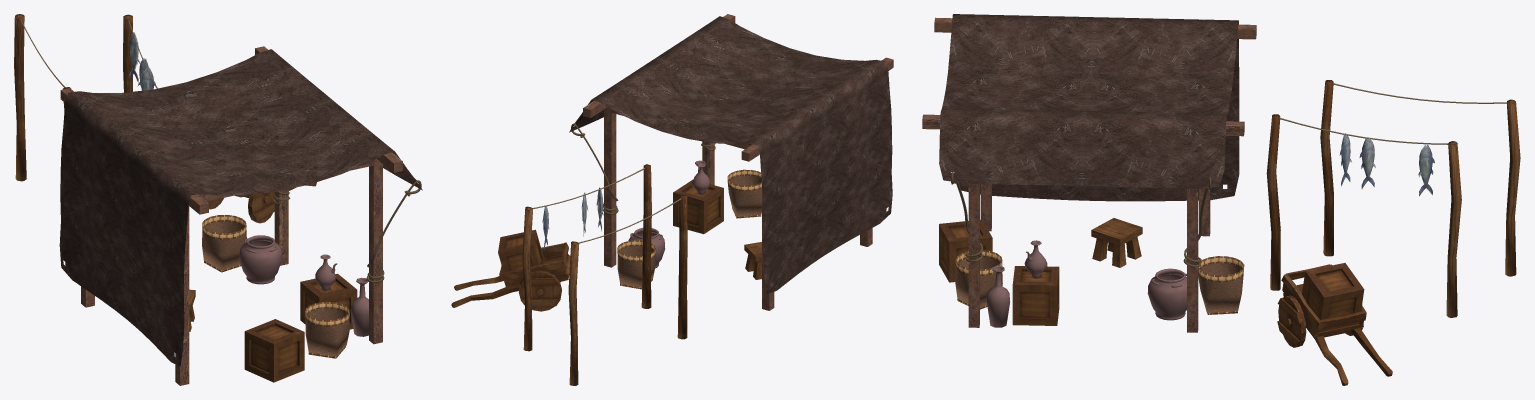
The picture shows the model from 3 angles, left to right: view 1: azimuth 30°, elevation 25°; view 2: azimuth 150°, elevation 25°; view 3: azimuth 270°, elevation 25°; orthographic projection. The views are drawn at different scales.
Parts seen in each view (by area): view 1: tenda.012, Crate_low.156, Cylinder.114, Cylinder.133, Jemuran_low.001, Cylinder.141, Crate_low.153, gerobag-base_low.001, Cylinder.110, Jemuran_low.003, Cylinder.111, Fish_low.002; view 2: tenda.012, gerobag-base_low.001, Jemuran_low.001, Jemuran_low.003, Crate_low.153, Cylinder.114, Cylinder.133, Crate_low.051, Kursi_low.014, Cylinder.141; view 3: tenda.012, Jemuran_low.003, Jemuran_low.001, gerobag-base_low.001, Crate_low.051, Crate_low.153, Cylinder.133, Kursi_low.014, Cylinder.141, Crate_low.156, Cylinder.114, Cylinder.110 (+3 smaller).
Boxes of the visible parts, bbox=[...] form: tenda.012: bbox=[59, 46, 422, 385]; Crate_low.156: bbox=[244, 319, 304, 382]; Cylinder.114: bbox=[305, 301, 349, 358]; Cylinder.133: bbox=[202, 215, 246, 272]; Jemuran_low.001: bbox=[14, 14, 71, 181]; Cylinder.141: bbox=[239, 235, 281, 284]; Crate_low.153: bbox=[300, 273, 357, 329]; gerobag-base_low.001: bbox=[207, 182, 316, 223]; Cylinder.110: bbox=[350, 277, 368, 336]; Jemuran_low.003: bbox=[123, 14, 157, 92]; Cylinder.111: bbox=[315, 254, 337, 290]; Fish_low.002: bbox=[128, 32, 139, 82]; tenda.012: bbox=[569, 14, 893, 310]; gerobag-base_low.001: bbox=[451, 242, 570, 311]; Jemuran_low.001: bbox=[568, 194, 687, 385]; Jemuran_low.003: bbox=[522, 164, 651, 351]; Crate_low.153: bbox=[673, 179, 723, 234]; Cylinder.114: bbox=[727, 169, 761, 218]; Cylinder.133: bbox=[617, 240, 655, 289]; Crate_low.051: bbox=[498, 229, 544, 272]; Kursi_low.014: bbox=[744, 242, 761, 279]; Cylinder.141: bbox=[628, 228, 665, 268]; tenda.012: bbox=[922, 14, 1256, 332]; Jemuran_low.003: bbox=[1266, 114, 1461, 317]; Jemuran_low.001: bbox=[1320, 80, 1520, 276]; gerobag-base_low.001: bbox=[1277, 264, 1392, 385]; Crate_low.051: bbox=[1302, 263, 1364, 332]; Crate_low.153: bbox=[1012, 266, 1059, 325]; Cylinder.133: bbox=[1198, 256, 1244, 314]; Kursi_low.014: bbox=[1091, 218, 1142, 267]; Cylinder.141: bbox=[1147, 268, 1186, 320]; Crate_low.156: bbox=[939, 219, 992, 282]; Cylinder.114: bbox=[955, 250, 1002, 309]; Cylinder.110: bbox=[986, 266, 1009, 327].
Size of the model in its own units: 5 by 3.01 by 7.67.
Materials: 14 (14 with a texture image).
